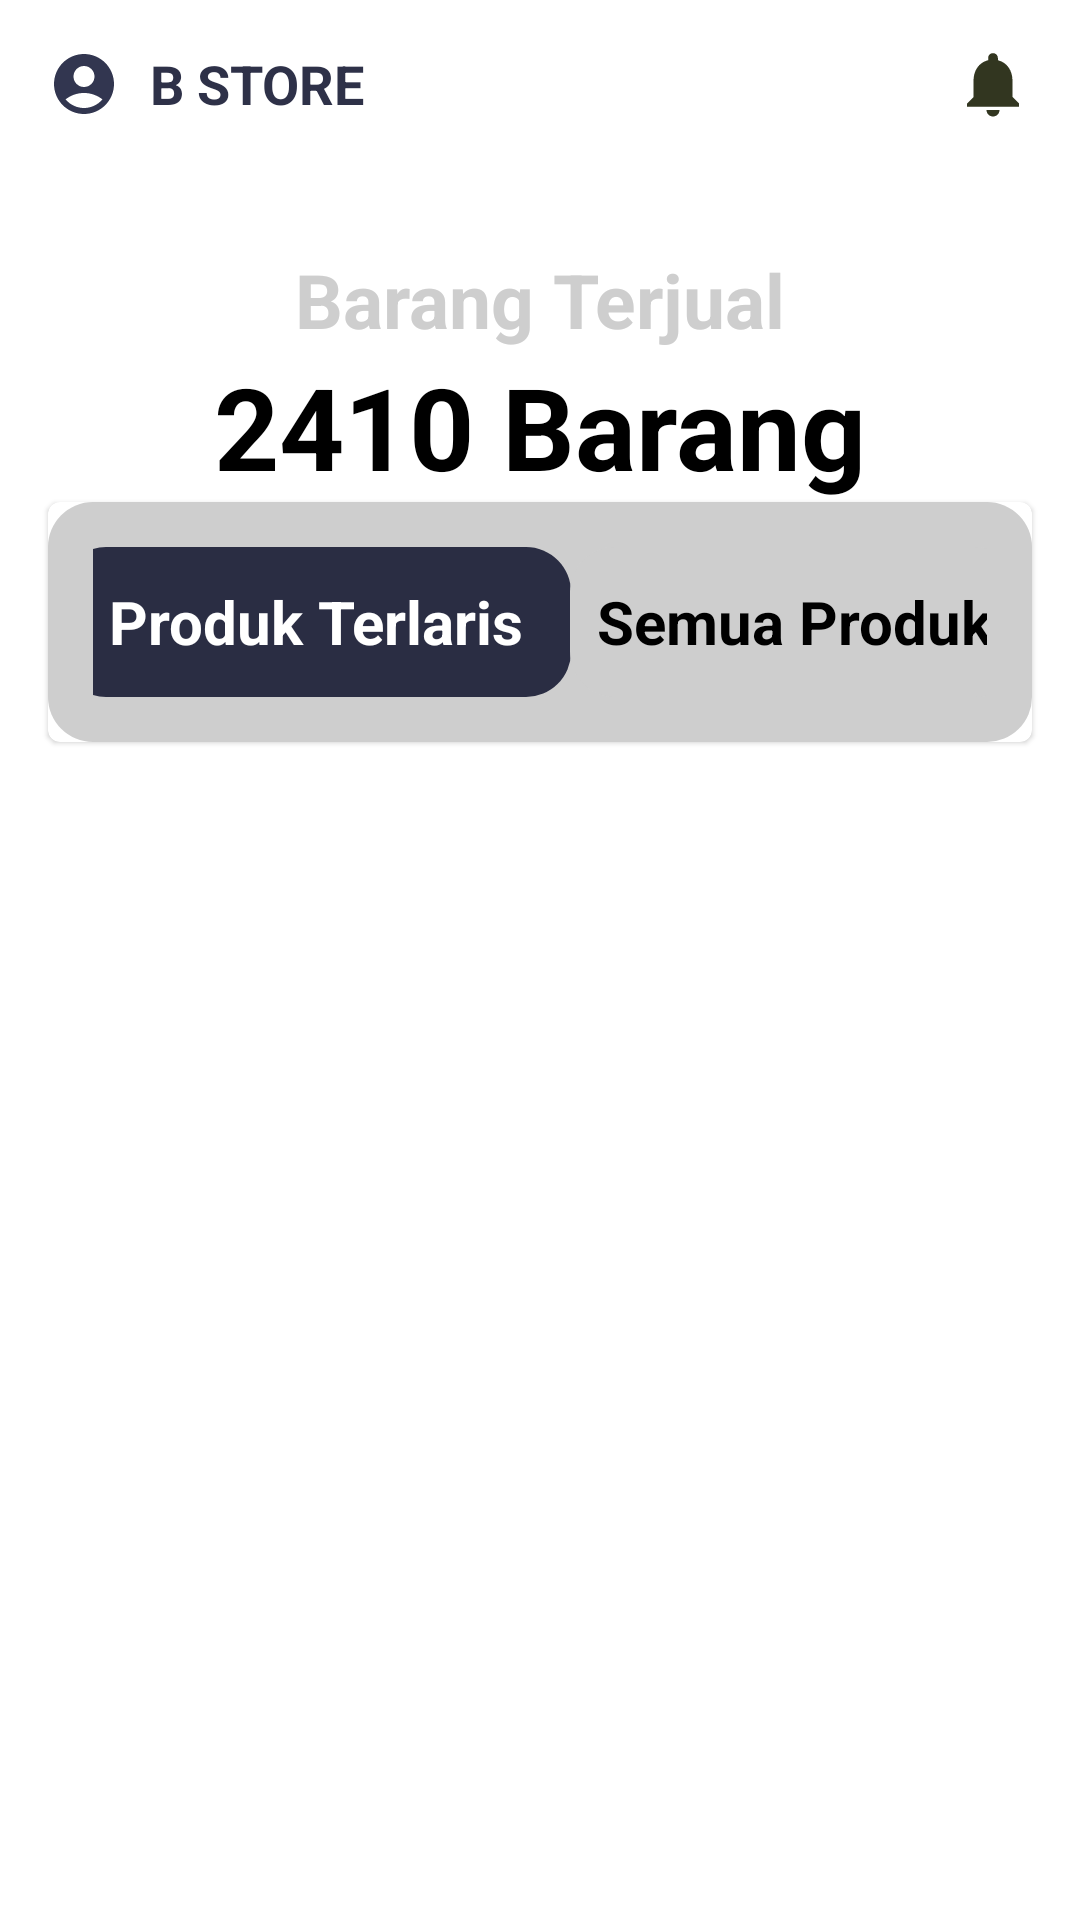

Icon bounding boxes for this 1080×1920 phone screenshot, format (x1,y1,x2,y2):
account: (54,54,114,114)
notifications: (967,53,1019,117)
